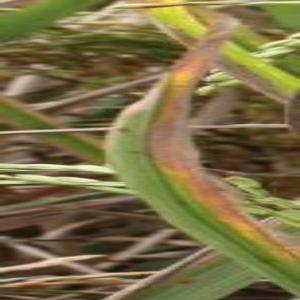Bacterial_Blight: (114, 80, 198, 229)
